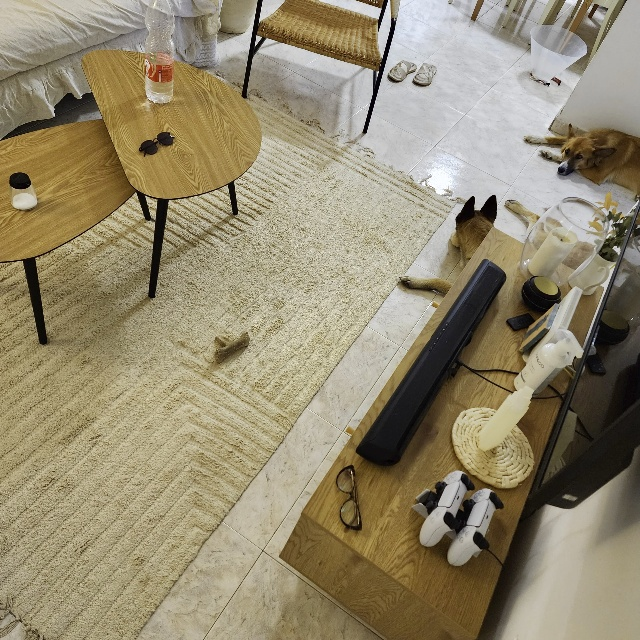glasses: (335, 461, 365, 540), (138, 129, 178, 159)
